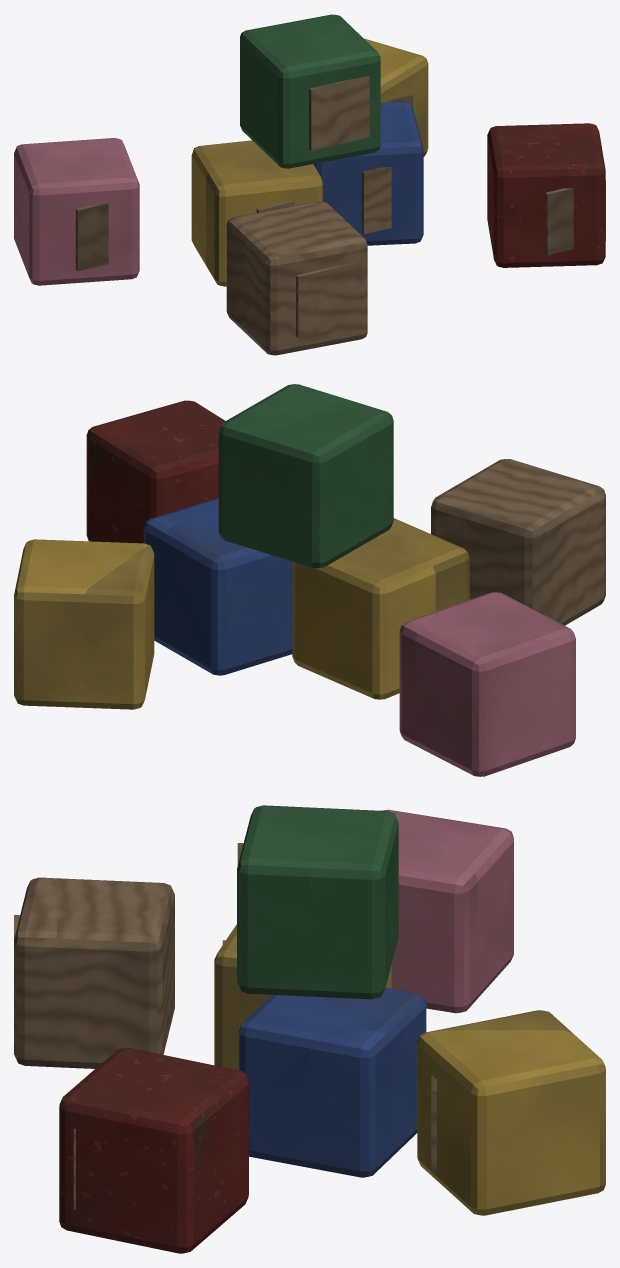
Rendered from T05_alphabet_blocks.glb.
The picture shows the model from 3 angles, top to bottom: view 1: azimuth 30°, elevation 25°; view 2: azimuth 150°, elevation 25°; view 3: azimuth 270°, elevation 25°; orthographic projection. The views are drawn at different scales.
Visible parts, largest first — view 1: T05_alphabet_blocks; view 2: T05_alphabet_blocks; view 3: T05_alphabet_blocks.
Boxes of the visible parts, box(x1,y1,x2,y2) form: T05_alphabet_blocks: box(14, 14, 605, 355); T05_alphabet_blocks: box(14, 384, 605, 776); T05_alphabet_blocks: box(14, 805, 605, 1253).
Bounding box in the file's own units: 0.3 × 0.1187 × 0.2359.
7 materials, 7 textured.
